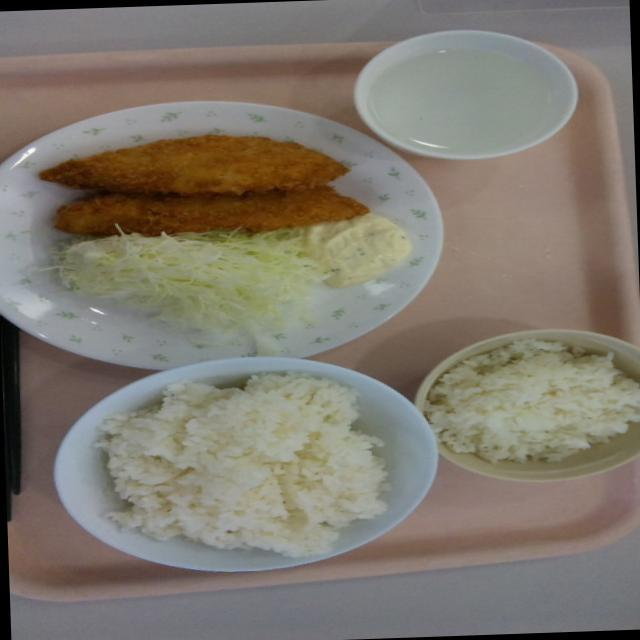Rice: (110, 367, 394, 567)
